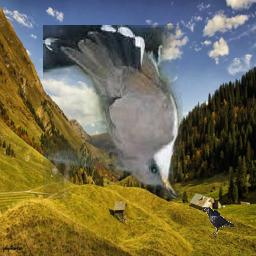Crow: (202, 206, 234, 238)
Cuckoo: (43, 25, 183, 199)
